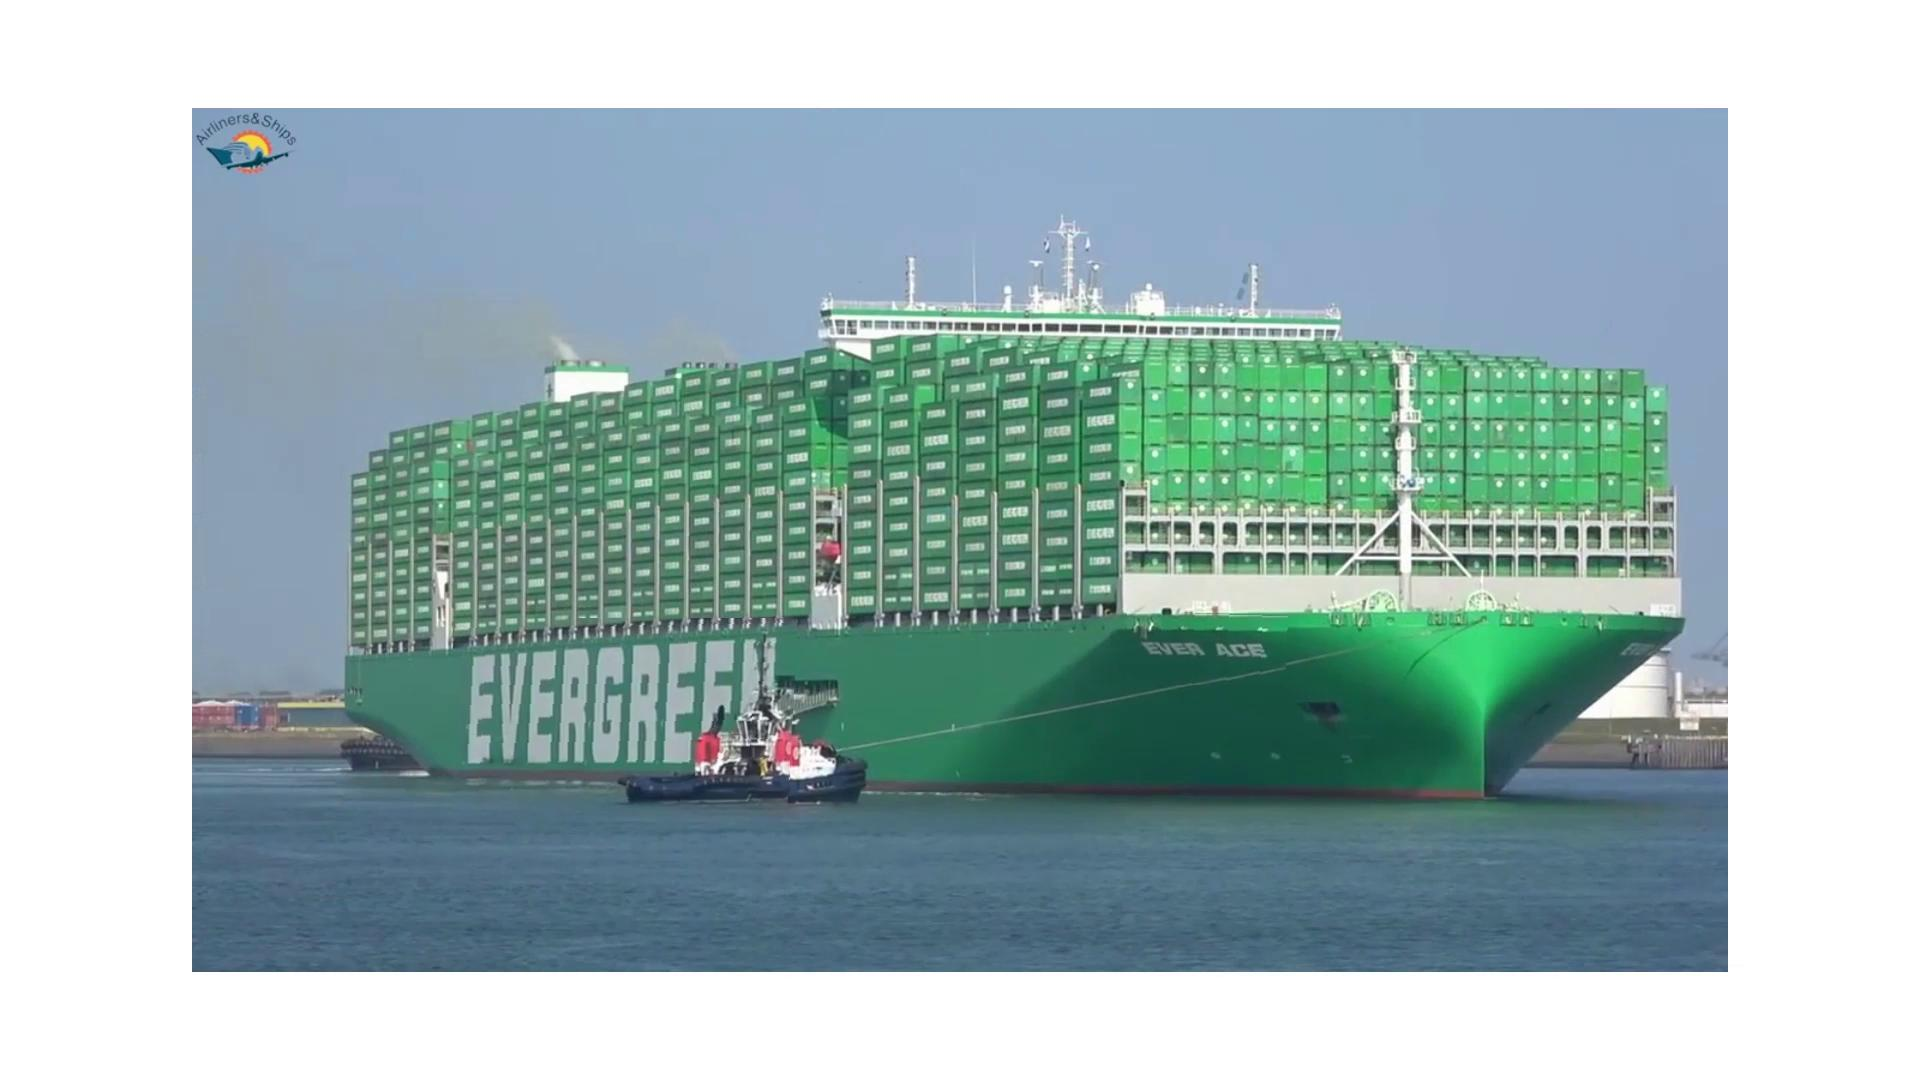OCR: (454, 618, 798, 814), (1110, 612, 1288, 686)
